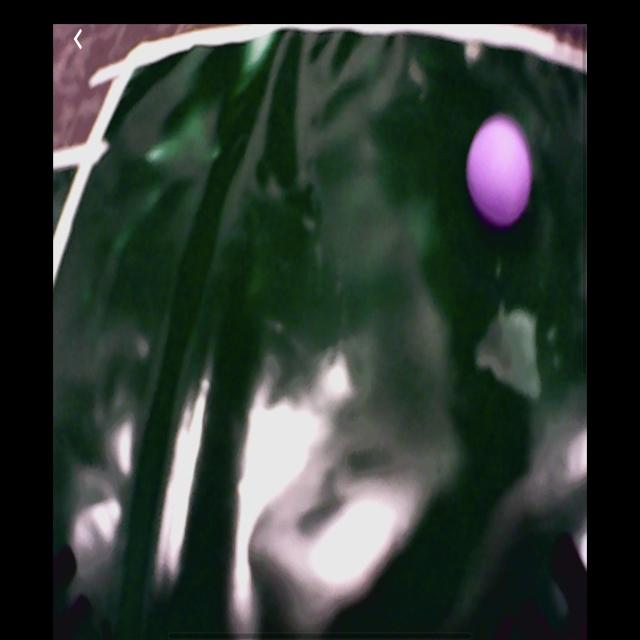ball: (468, 114, 534, 235)
